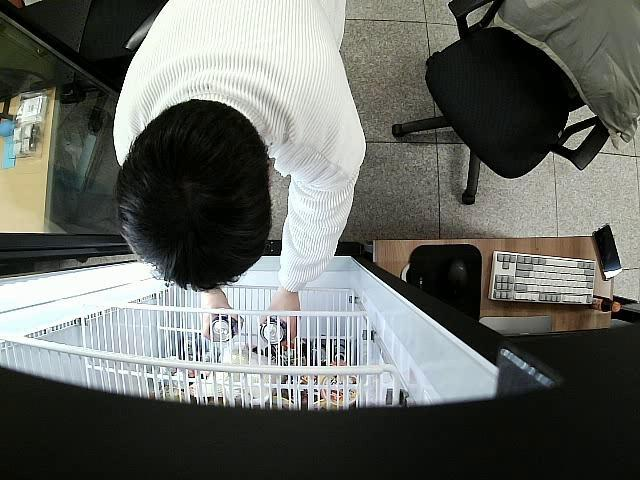14_welchsGrape: (209, 313, 242, 342), (260, 316, 288, 345)
